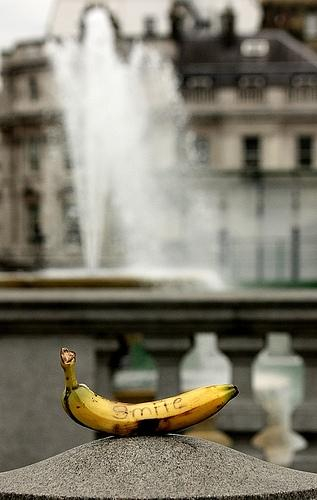banana: (60, 347, 239, 437)
